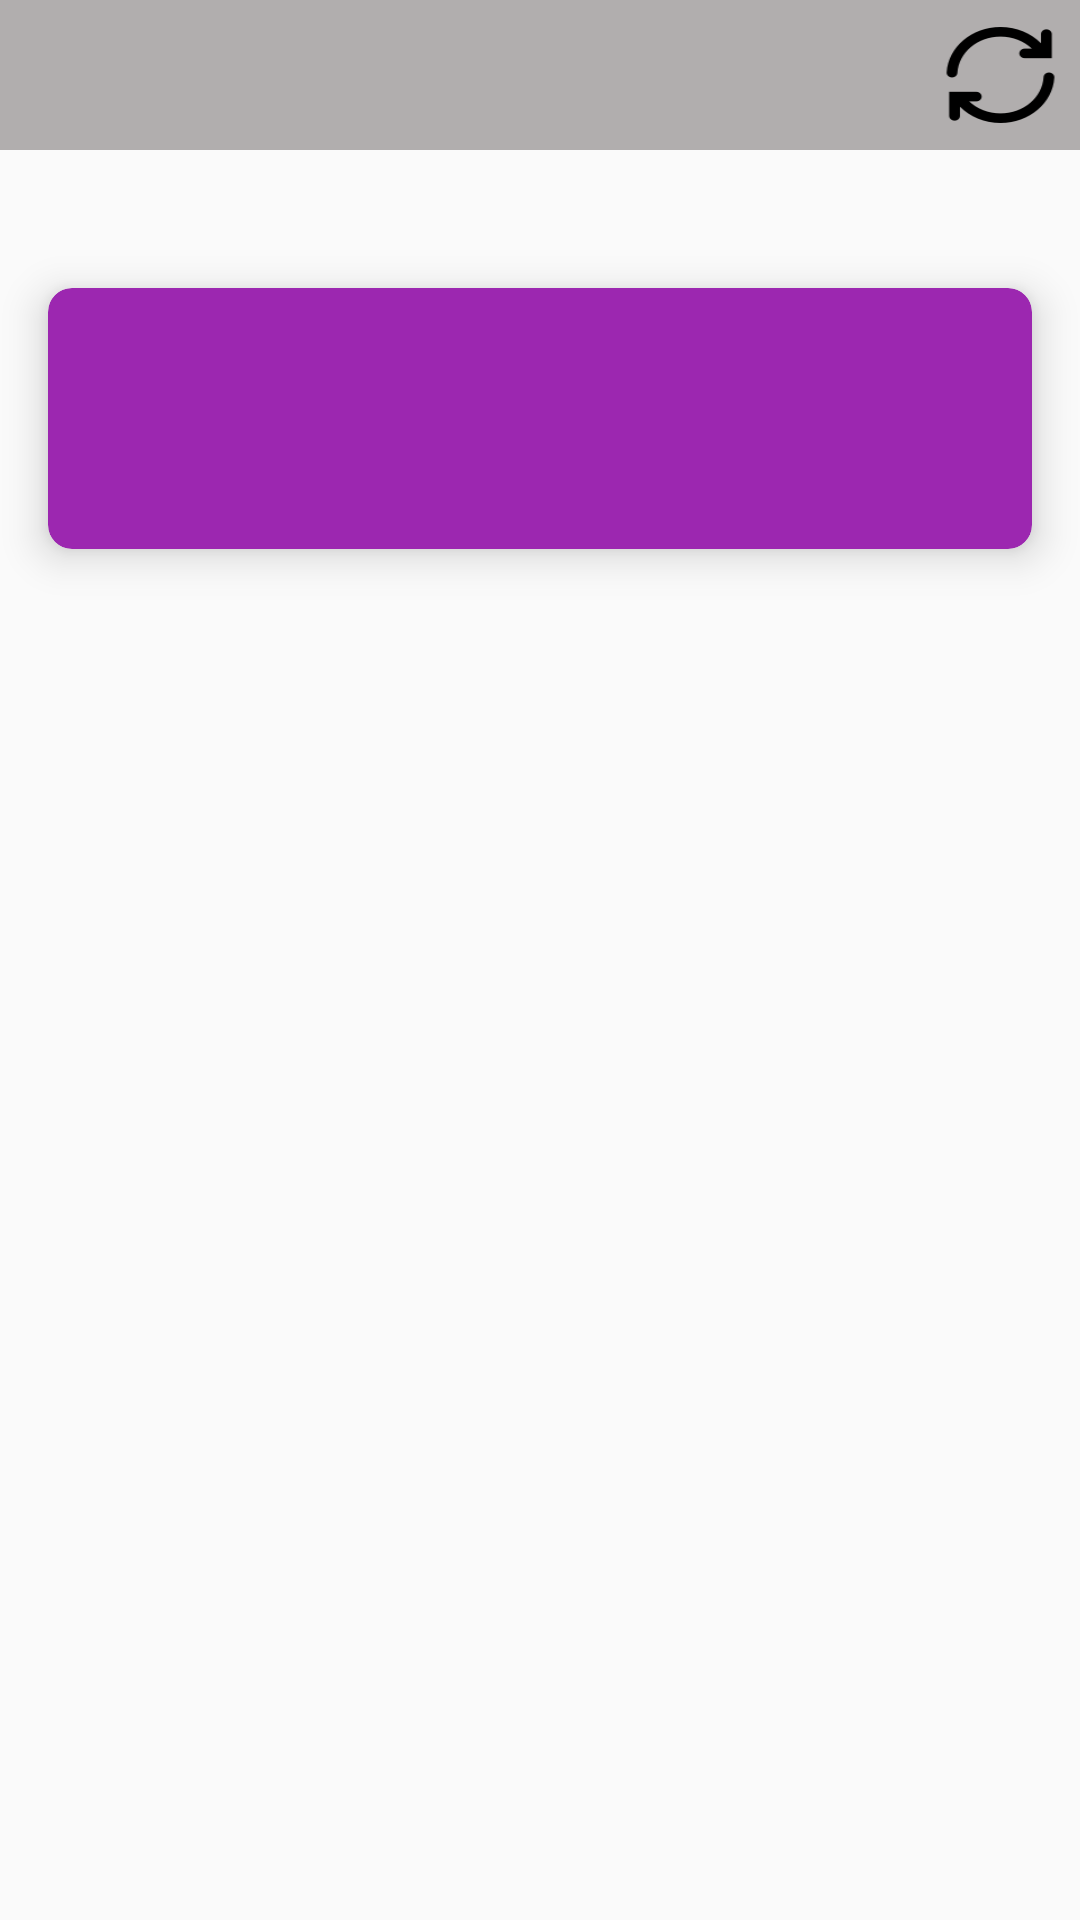

Icon bounding boxes for this 1080 × 1920 phone screenshot, format (x1, y1, x2, y2):
refresh: (946, 27, 1055, 123)
